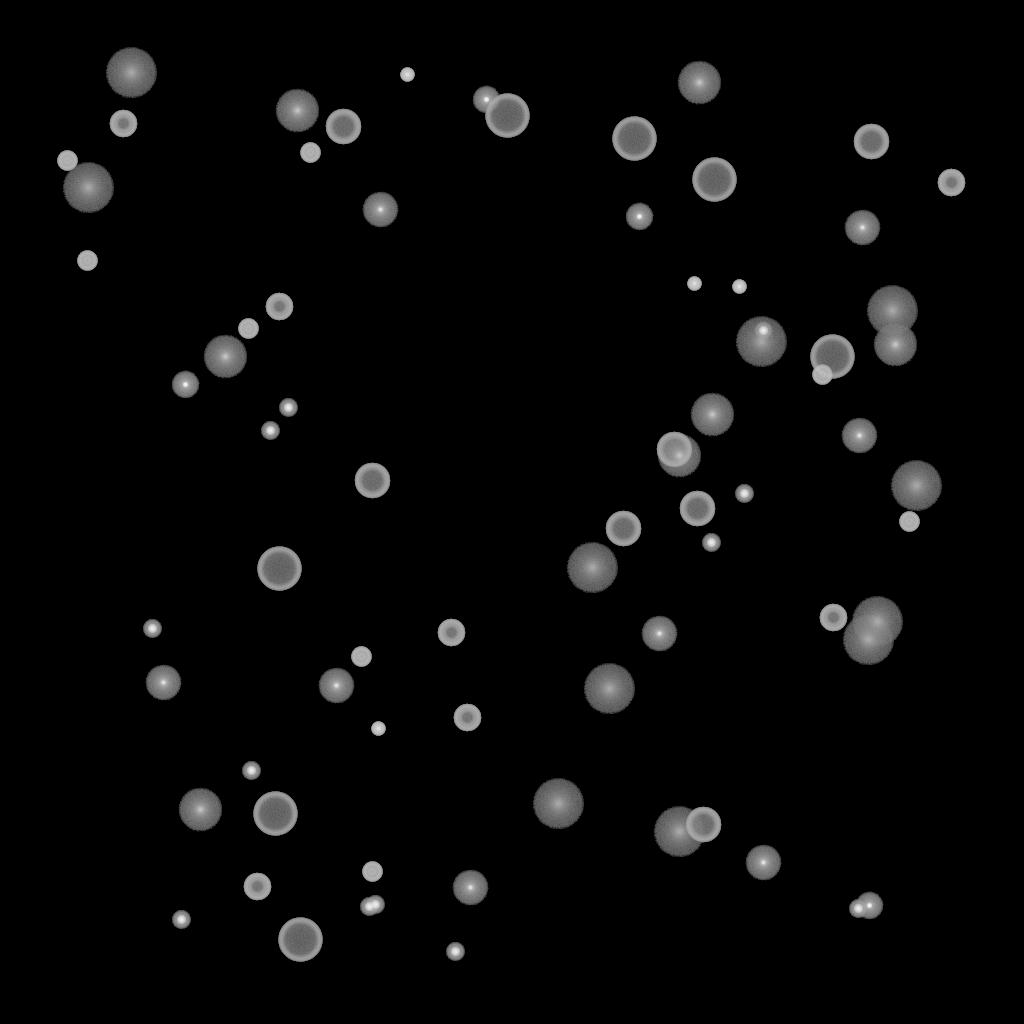depth:-10: (171, 371, 199, 399), (472, 86, 500, 114), (625, 203, 653, 231), (855, 892, 883, 920)
depth:-20: (279, 399, 297, 417), (735, 485, 753, 503), (366, 896, 384, 914), (261, 422, 279, 440), (849, 900, 867, 918), (446, 943, 464, 961), (360, 898, 378, 916), (172, 911, 190, 929), (242, 762, 260, 780), (702, 534, 720, 552), (754, 322, 772, 340), (143, 620, 161, 638)
depth:-30: (400, 68, 414, 82), (732, 280, 746, 294), (687, 277, 701, 291), (371, 722, 385, 736)
depth:-40: (812, 365, 832, 385), (57, 151, 77, 171), (351, 647, 371, 667), (77, 251, 97, 271), (899, 512, 919, 532), (238, 319, 258, 339), (300, 143, 320, 163), (362, 862, 382, 882)
depth:-50: (453, 704, 481, 732), (243, 873, 271, 901), (437, 619, 465, 647), (819, 604, 847, 632), (937, 169, 965, 197), (265, 293, 293, 321), (109, 110, 137, 138)
depth:-60: (325, 109, 361, 145), (354, 463, 390, 499), (853, 124, 889, 160), (605, 511, 641, 547), (685, 807, 721, 843), (656, 432, 692, 468), (679, 491, 715, 527)
depth:-70: (612, 117, 656, 161), (278, 918, 322, 962), (257, 547, 301, 591), (485, 94, 529, 138), (810, 335, 854, 379), (253, 792, 297, 836), (692, 158, 736, 202)
depth:0: (145, 665, 181, 701), (745, 845, 781, 881), (841, 418, 877, 454), (641, 616, 677, 652), (318, 668, 354, 704), (844, 210, 880, 246), (362, 192, 398, 228), (452, 870, 488, 906)
depth:10: (275, 89, 319, 133), (690, 393, 734, 437), (203, 335, 247, 379), (178, 788, 222, 832), (873, 323, 917, 367), (677, 61, 721, 105), (657, 434, 701, 478)
depth:20: (735, 317, 787, 367), (566, 543, 618, 593), (890, 461, 942, 511), (532, 779, 584, 829), (653, 807, 705, 857), (105, 48, 157, 98), (583, 664, 635, 714), (62, 163, 114, 213), (851, 597, 903, 647), (842, 615, 894, 665), (866, 286, 918, 336)
